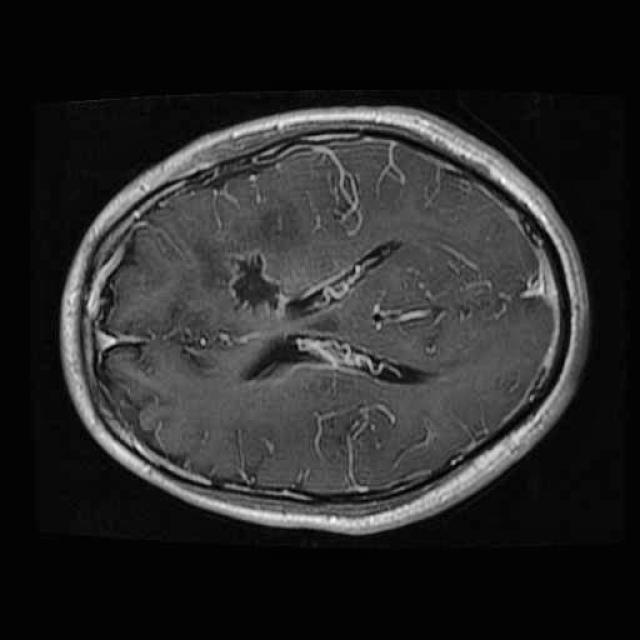Non-Tumor: (176, 189, 314, 304)
